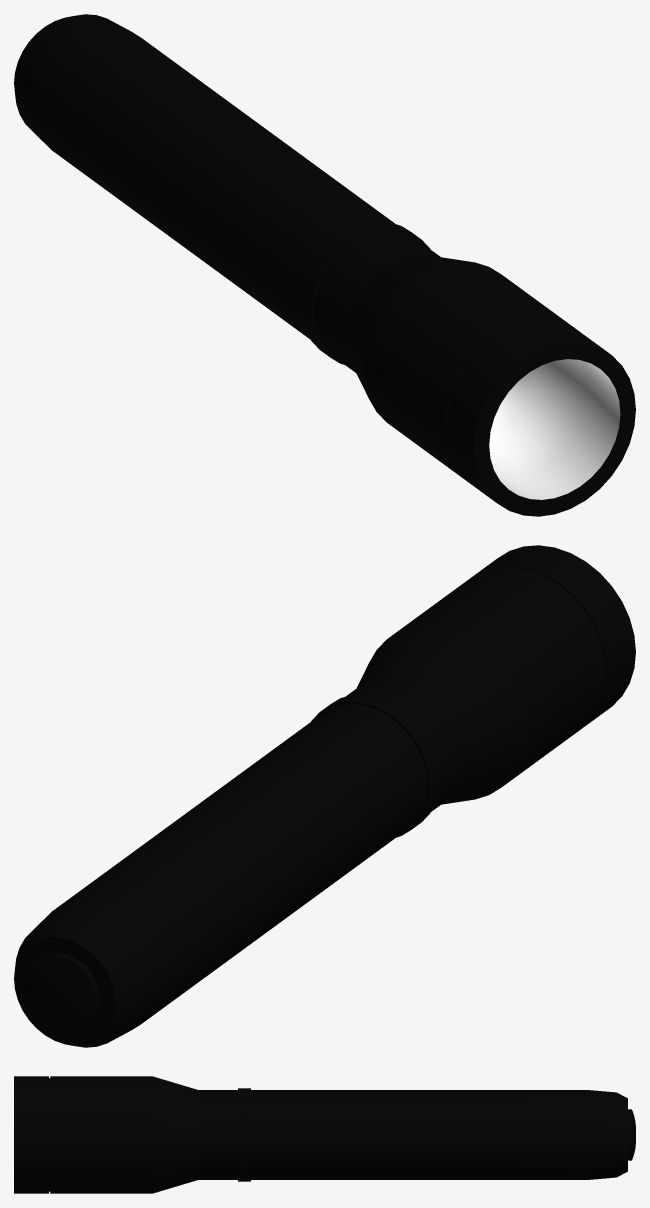
Rendered from flashlight.fbx.
The picture shows the model from 3 angles, top to bottom: view 1: azimuth 30°, elevation 25°; view 2: azimuth 150°, elevation 25°; view 3: azimuth 270°, elevation 25°; orthographic projection. The views are drawn at different scales.
Parts seen in each view (by area): view 1: Cylinder; view 2: Cylinder; view 3: Cylinder.
Part boxes in pixels (x1=…): Cylinder: x1=14, y1=14, x2=635, y2=516; Cylinder: x1=14, y1=545, x2=635, y2=1047; Cylinder: x1=14, y1=1076, x2=635, y2=1193.
Bounding box in the file's own units: 261 × 261 × 1381.
1 material, 1 textured.
